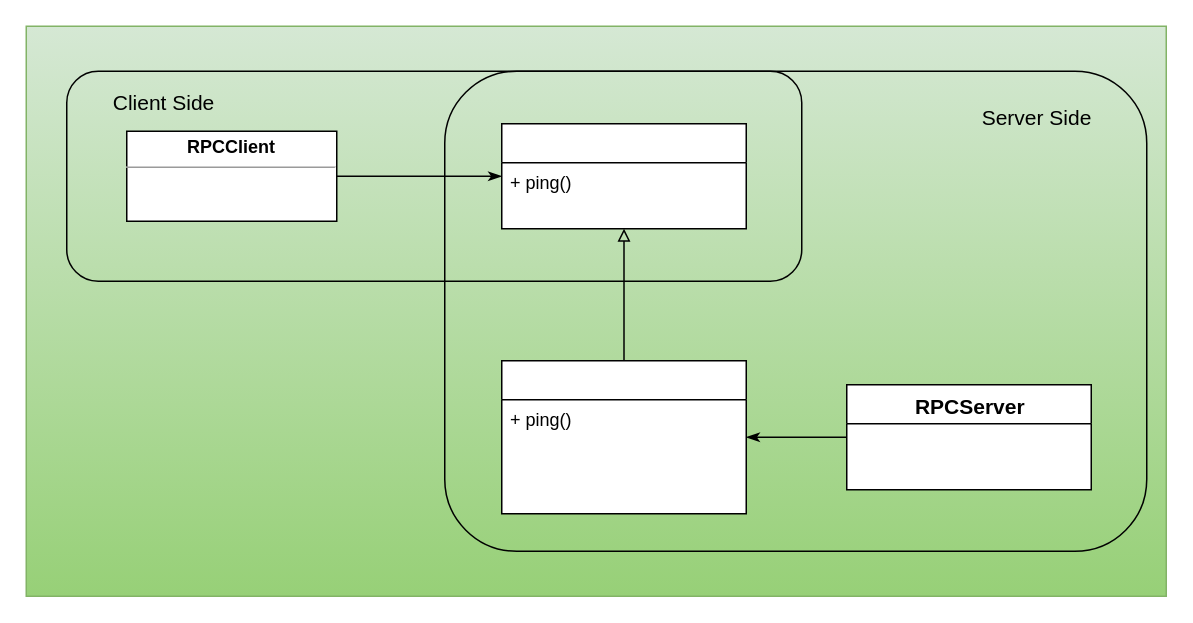
Image size: 1193x623. Some labels were removed from this diagram. Each missing label, with the box of its shape:
PingRPC: (500, 122, 746, 229)
PingRPCImpl: (500, 359, 746, 514)
